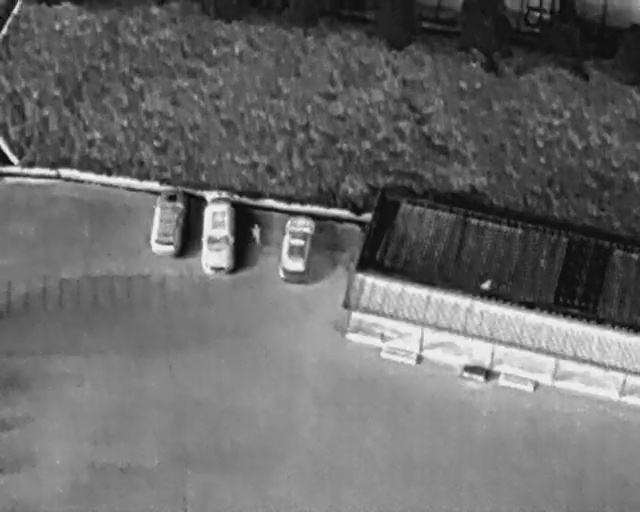Car: (200, 194, 238, 278), (148, 187, 191, 260), (276, 211, 317, 287)
Person: (252, 222, 263, 248)
